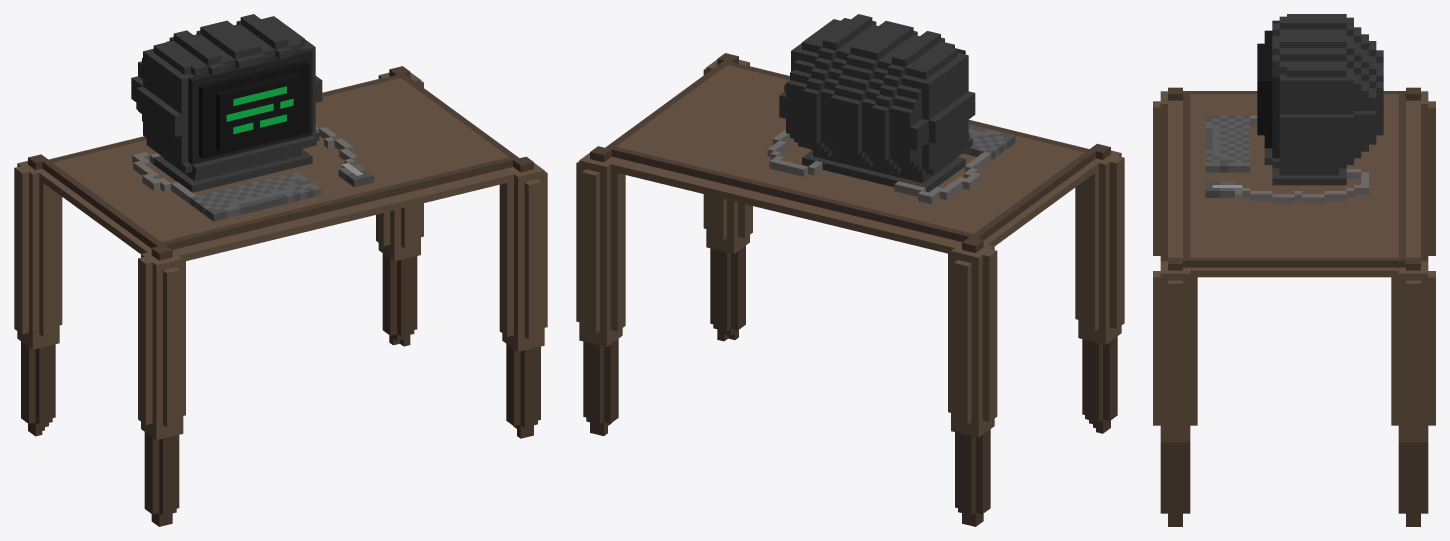
File: Work place.obj
The picture shows the model from 3 angles, left to right: view 1: azimuth 30°, elevation 25°; view 2: azimuth 150°, elevation 25°; view 3: azimuth 270°, elevation 25°; orthographic projection. The views are drawn at different scales.
Bounding box in the file's own units: 6 × 5.7 × 3.8.
1 material, 1 textured.
